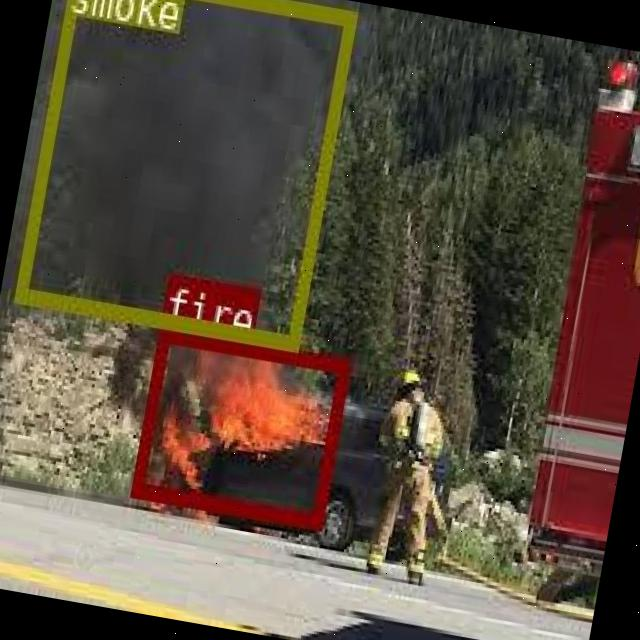fire: (129, 324, 348, 525)
smoke: (13, 0, 354, 346)
